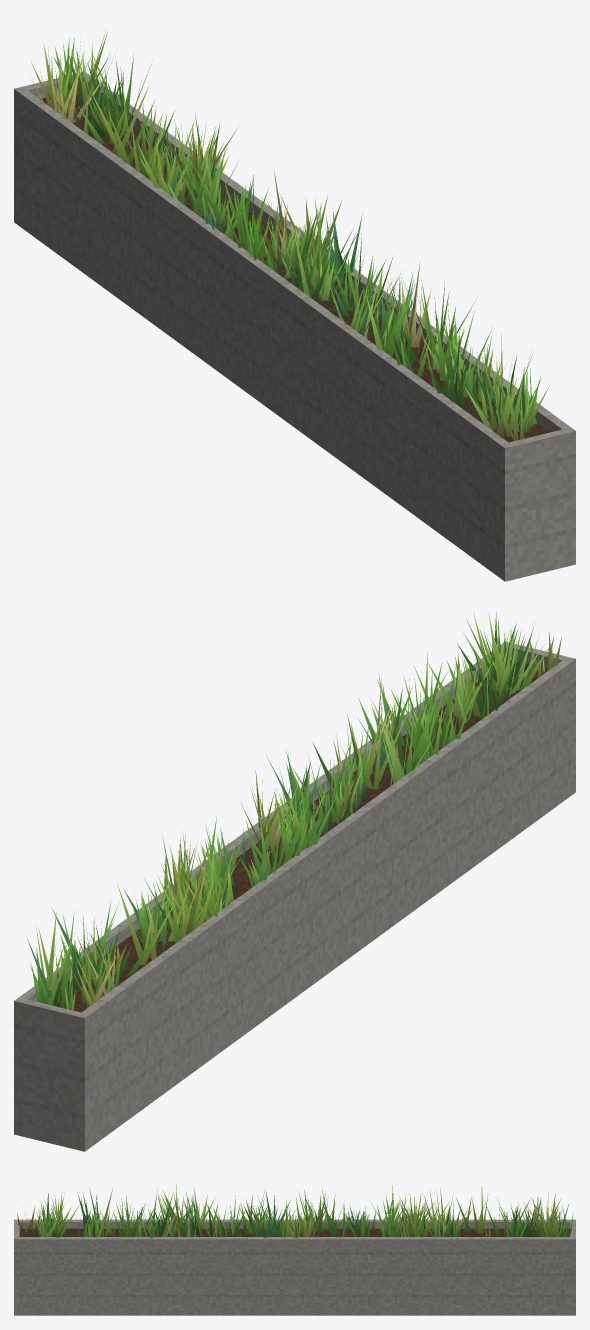
File: kvetinac_hranaty.glb
3 views of the same model, one above another, from view 1: azimuth 30°, elevation 25°; view 2: azimuth 150°, elevation 25°; view 3: azimuth 270°, elevation 25° (orthographic). The views are drawn at different scales.
Parts seen in each view (by area): view 1: kvetinac_hranaty; view 2: kvetinac_hranaty; view 3: kvetinac_hranaty.
Boxes of the visible parts, x1=… form: kvetinac_hranaty: x1=14, y1=29, x2=575, y2=581; kvetinac_hranaty: x1=14, y1=612, x2=575, y2=1151; kvetinac_hranaty: x1=14, y1=1184, x2=575, y2=1315.
Size of the model in its own units: 0.7628 by 1.4 by 6.
Materials: 3 (3 with a texture image).
